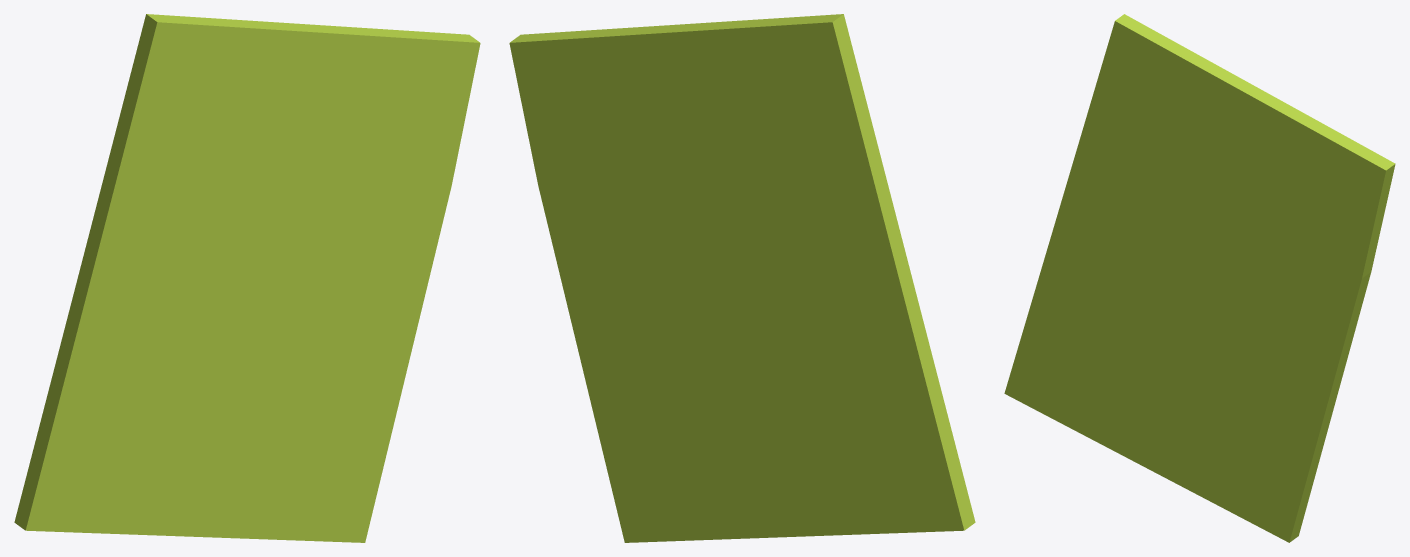
The picture shows the model from 3 angles, left to right: view 1: azimuth 30°, elevation 25°; view 2: azimuth 150°, elevation 25°; view 3: azimuth 330°, elevation 25°; orthographic projection. The views are drawn at different scales.
Parts seen in each view (by area): view 1: osm-way27917482-F2; view 2: osm-way27917482-F2; view 3: osm-way27917482-F2.
Boxes of the visible parts, <box> form: osm-way27917482-F2: <box>14,14,480,542</box>; osm-way27917482-F2: <box>509,14,975,542</box>; osm-way27917482-F2: <box>1004,14,1395,542</box>.
Size of the model in its own units: 3.51 by 4.21 by 0.15.
